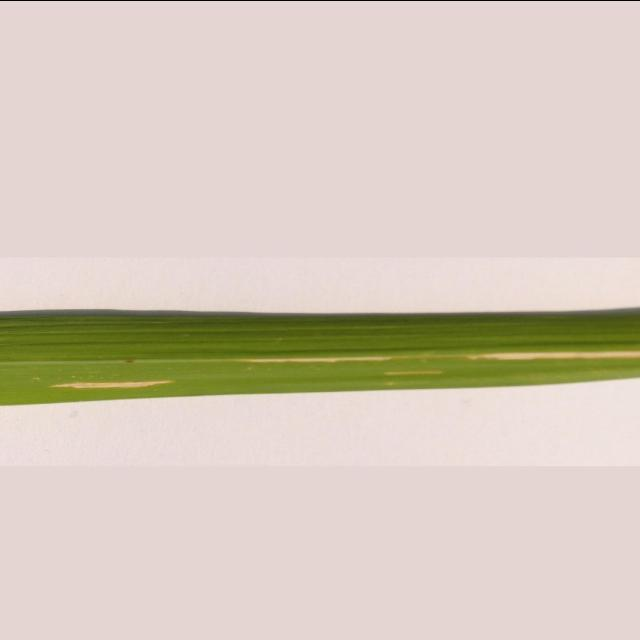Bacterial leaf blight: (0, 256, 640, 467)
